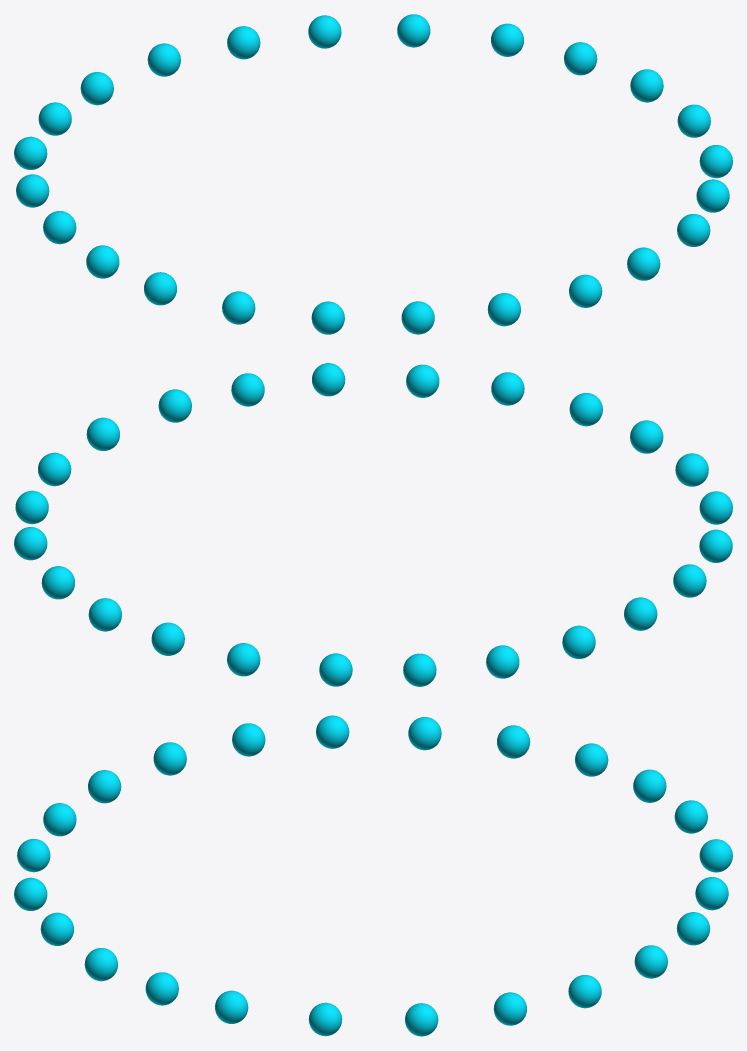
3 renders of one model, top to bottom at view 1: azimuth 30°, elevation 25°; view 2: azimuth 150°, elevation 25°; view 3: azimuth 270°, elevation 25°, orthographic.
Parts seen in each view (by area): view 1: Sphere050; view 2: Sphere050; view 3: Sphere050.
Boxes of the visible parts, x1,y1,x2,y2 form: Sphere050: [14, 14, 732, 334]; Sphere050: [14, 363, 732, 686]; Sphere050: [14, 715, 732, 1036].
Bounding box in the file's own units: 176 × 8.22 × 177.
